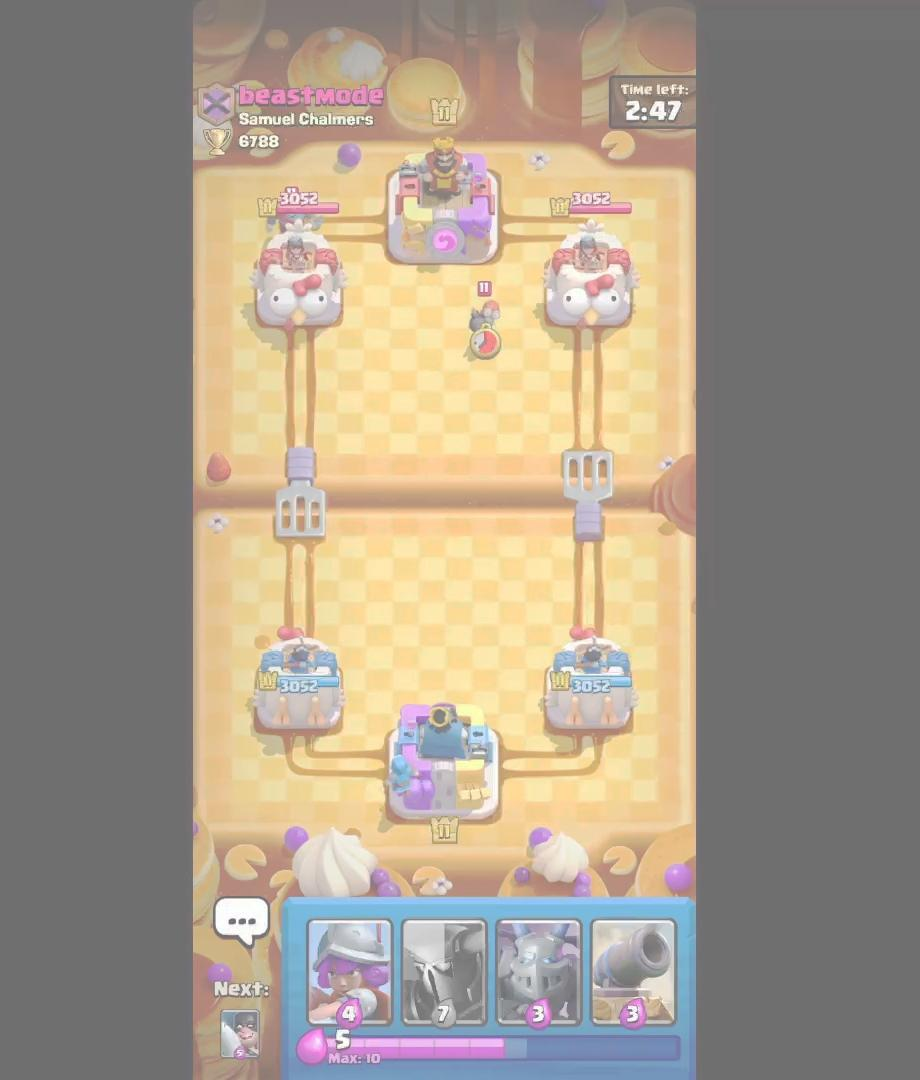Bomber: (464, 277, 507, 359)
Knight: (266, 187, 330, 245)
